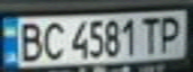1: (121, 16, 142, 56)
4: (66, 18, 90, 60)
5: (87, 17, 106, 59)
8: (103, 16, 124, 57)
B: (12, 19, 45, 63)
C: (39, 19, 69, 61)
P: (154, 12, 187, 54)
T: (136, 14, 163, 54)
